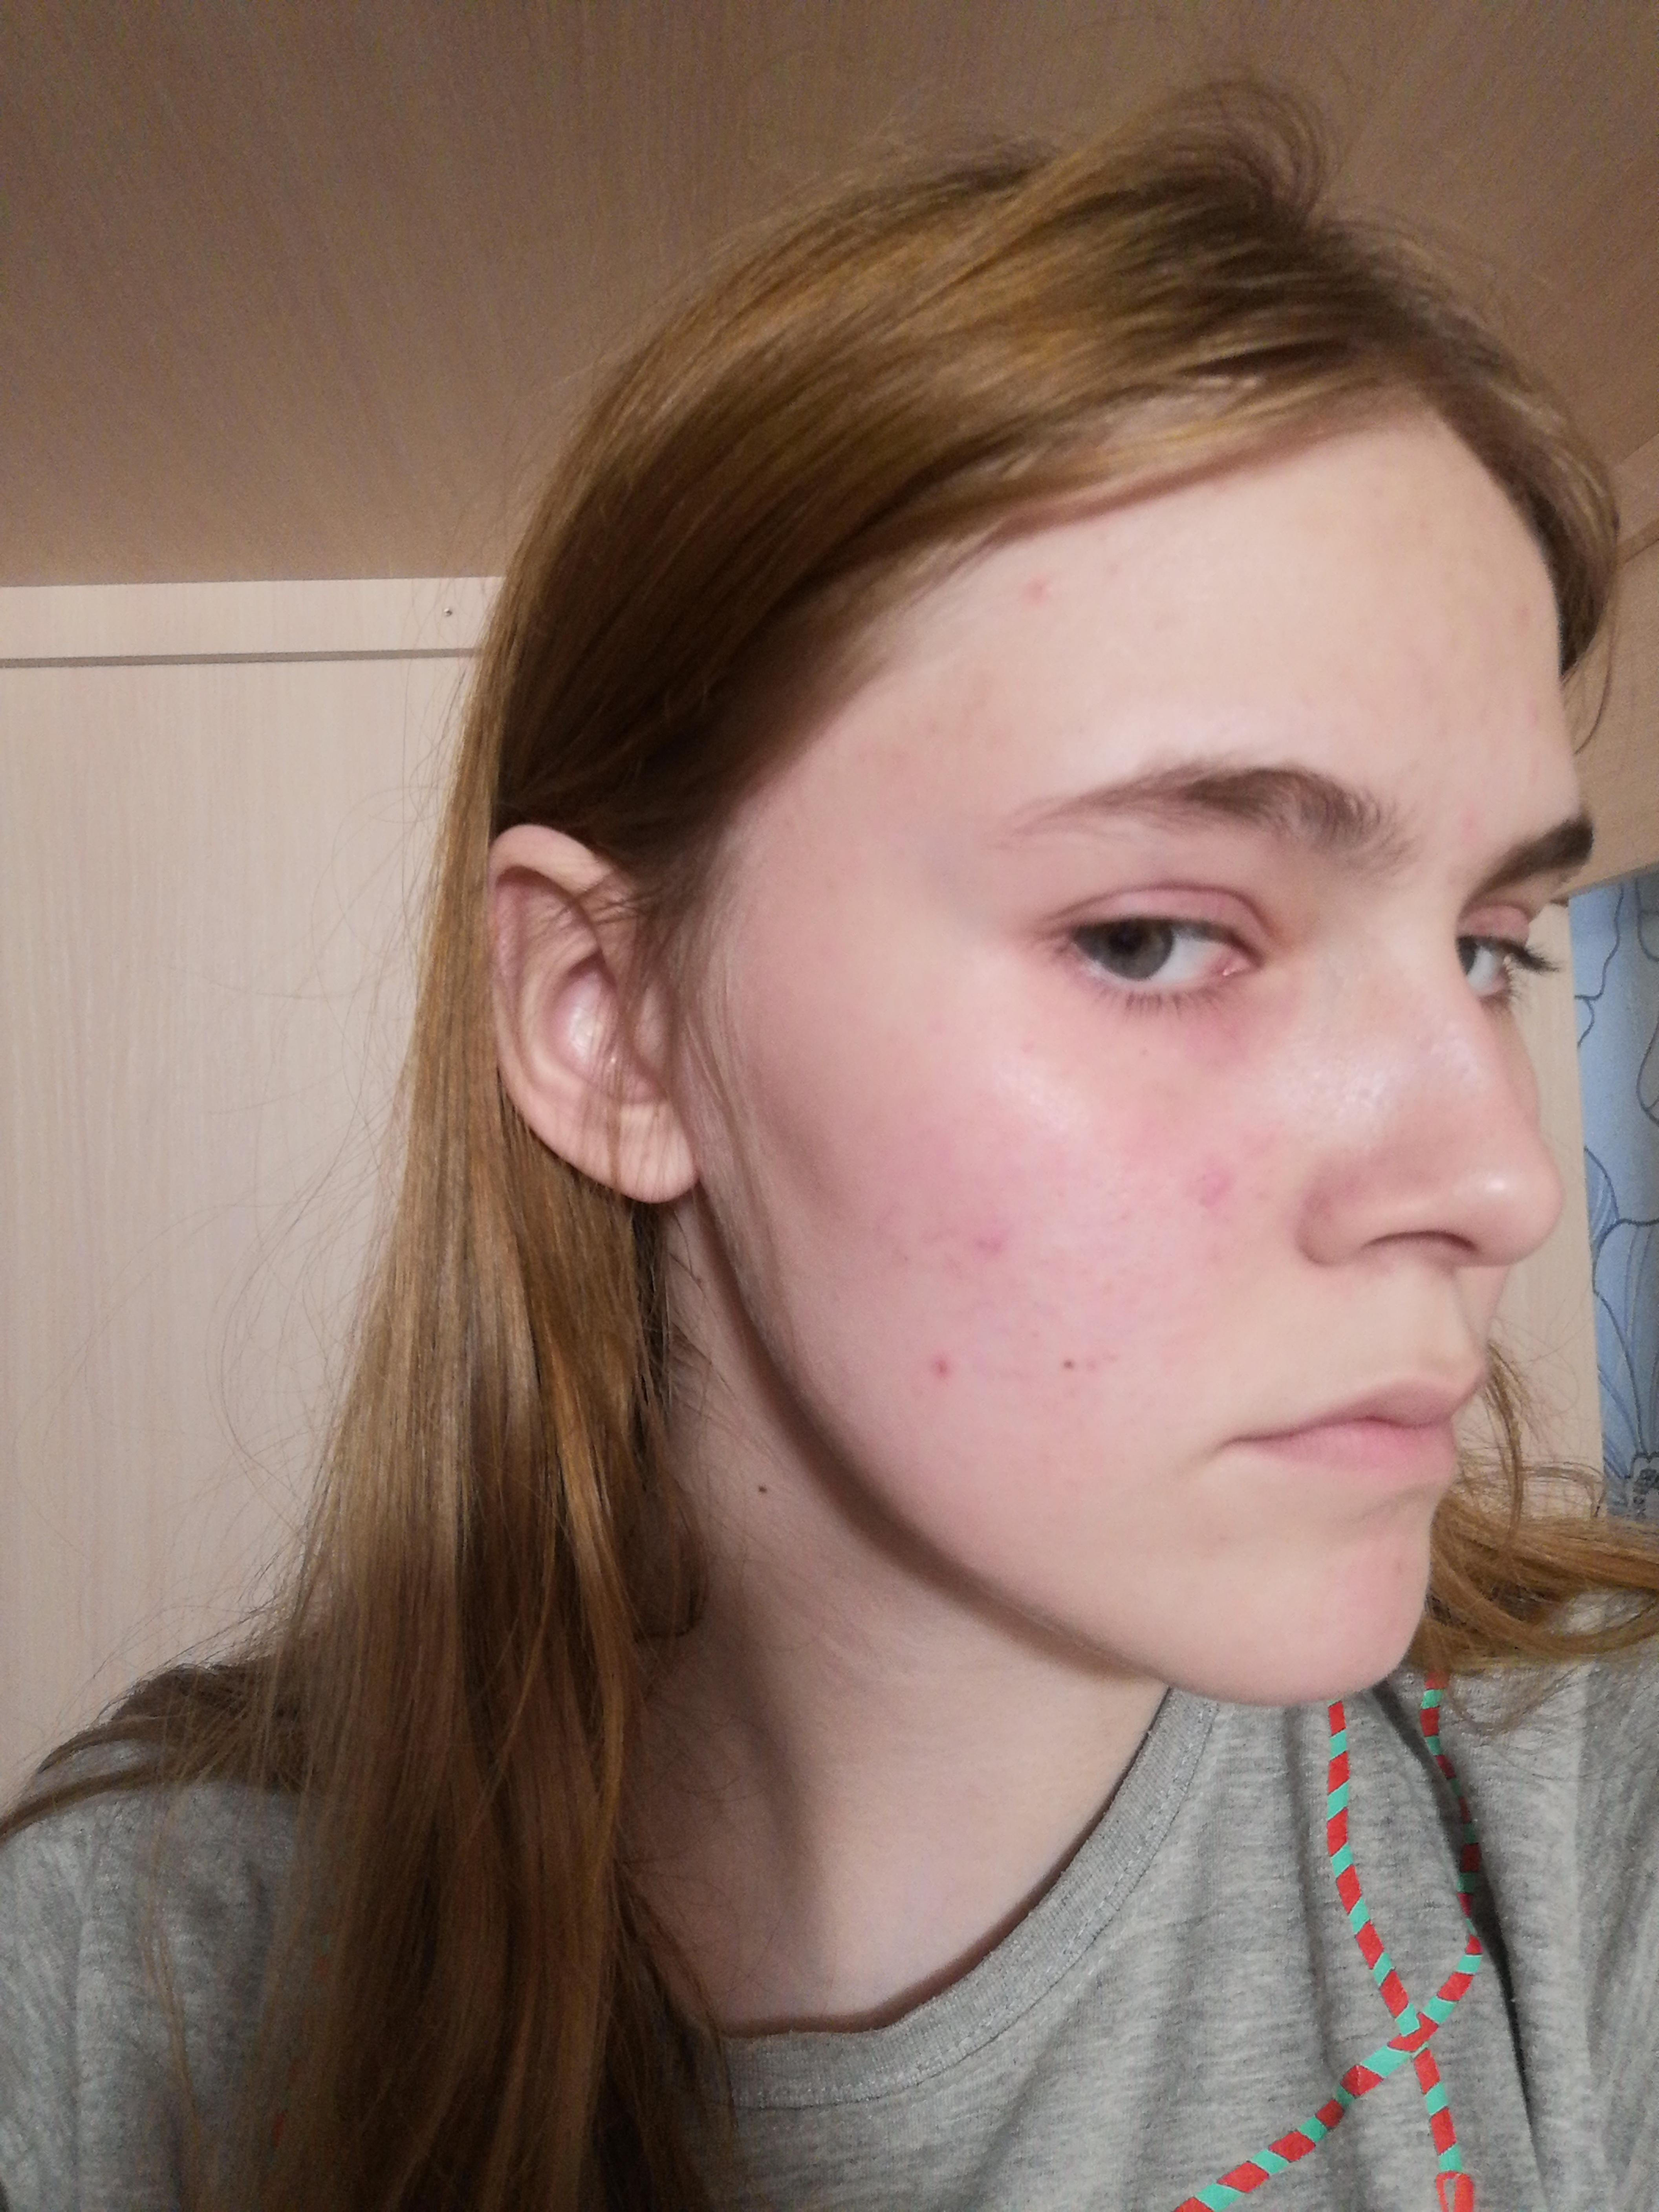Acne: (1185, 1160, 1241, 1212), (967, 1223, 1012, 1264), (1293, 1183, 1337, 1223), (1019, 566, 1053, 617), (920, 1353, 962, 1383), (1450, 810, 1485, 840), (1513, 594, 1537, 634), (1527, 756, 1549, 792), (1518, 695, 1541, 730)
